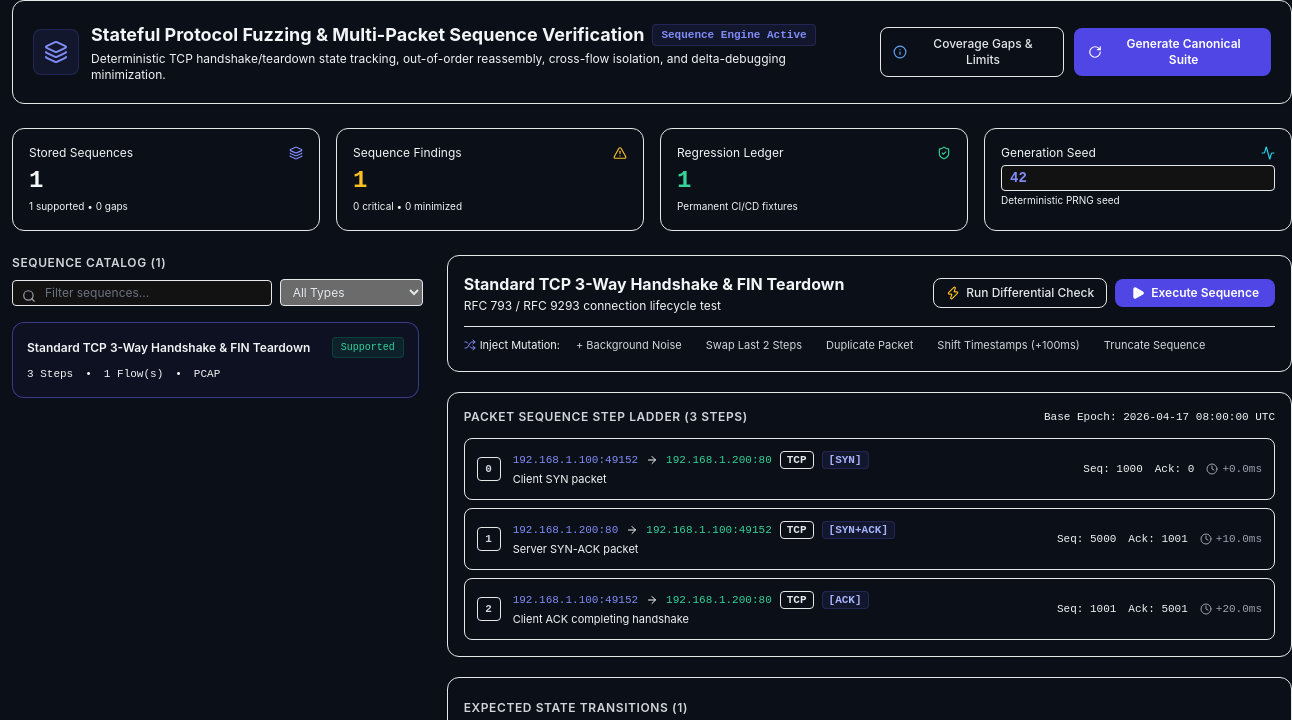
Scenario: StatefulSequenceWorkbench Component › runs differential check with divergences and renders semantic discrepancy breakdown
Expected: the text "Run Differential Check" is shown, 966,285 -> 1094,301
Click the button "Run Differential Check" at (1020, 293), box 933,278 -> 1107,308
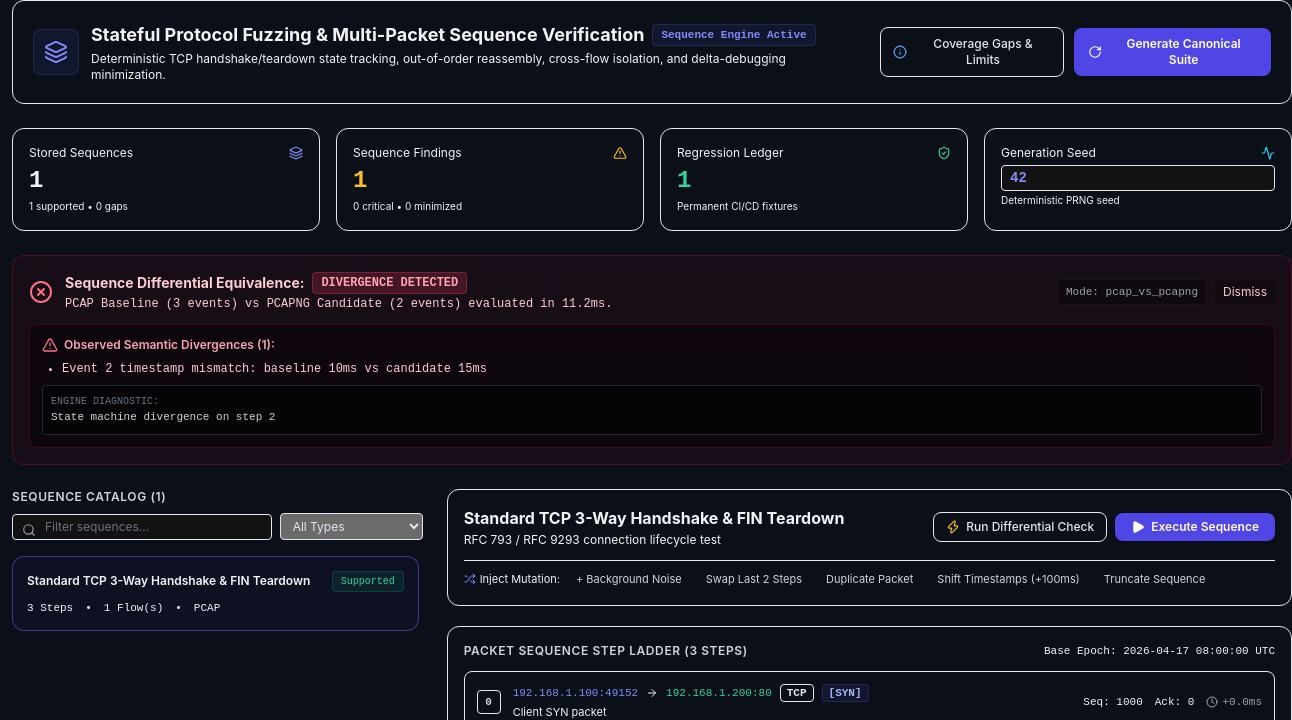
Expected: the text "DIVERGENCE DETECTED" is shown, 312,272 -> 467,294
Expected: the list item "Event 2 timestamp mismatch: baseline 10ms vs candidate 15ms" is shown, 62,362 -> 487,376
Expected: the text "State machine divergence on step 2" is shown, 51,411 -> 275,423
